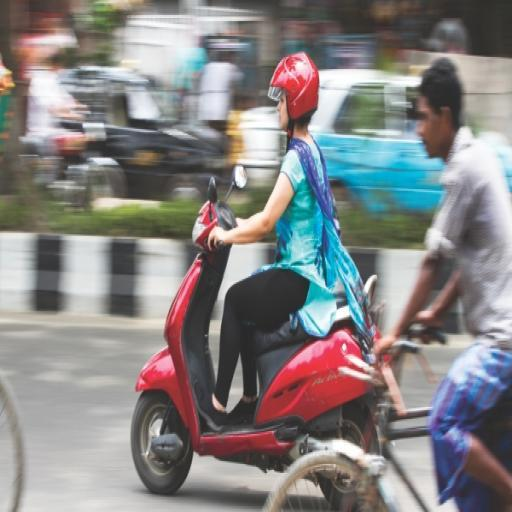helmet: (128, 42, 330, 467)
